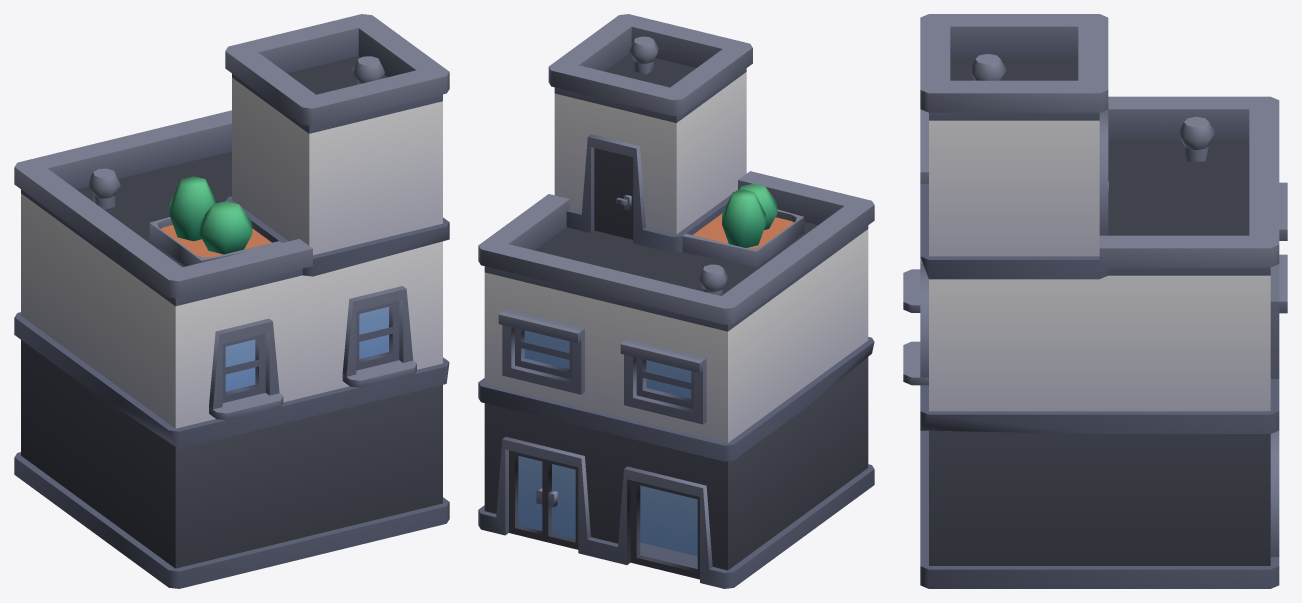
Rendered from townhouse-d.glb.
3 views of the same model, side by side, from view 1: azimuth 30°, elevation 25°; view 2: azimuth 150°, elevation 25°; view 3: azimuth 270°, elevation 25° (orthographic). The views are drawn at different scales.
Visible parts, largest first — view 1: building-d; view 2: building-d; view 3: building-d.
Boxes of the visible parts, left/top/right/bottom form: building-d: left=14, top=14, right=449, bottom=588; building-d: left=478, top=14, right=874, bottom=588; building-d: left=903, top=14, right=1287, bottom=588.
Bounding box in the file's own units: 0.84 × 1.29 × 0.8999.
1 material, 1 textured.
